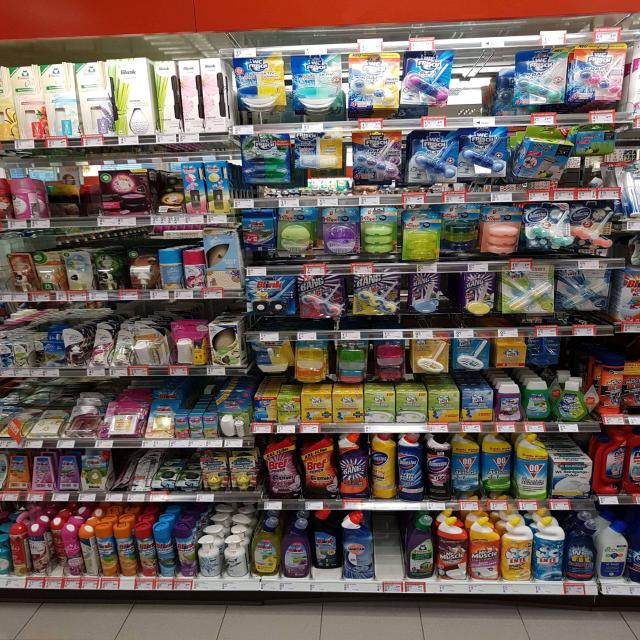unorganised: (512, 129, 571, 184), (556, 269, 610, 315), (310, 508, 341, 581), (43, 176, 97, 216), (249, 341, 292, 387), (153, 168, 183, 211), (77, 524, 98, 579), (528, 338, 559, 367), (112, 455, 136, 492), (48, 519, 63, 574)
